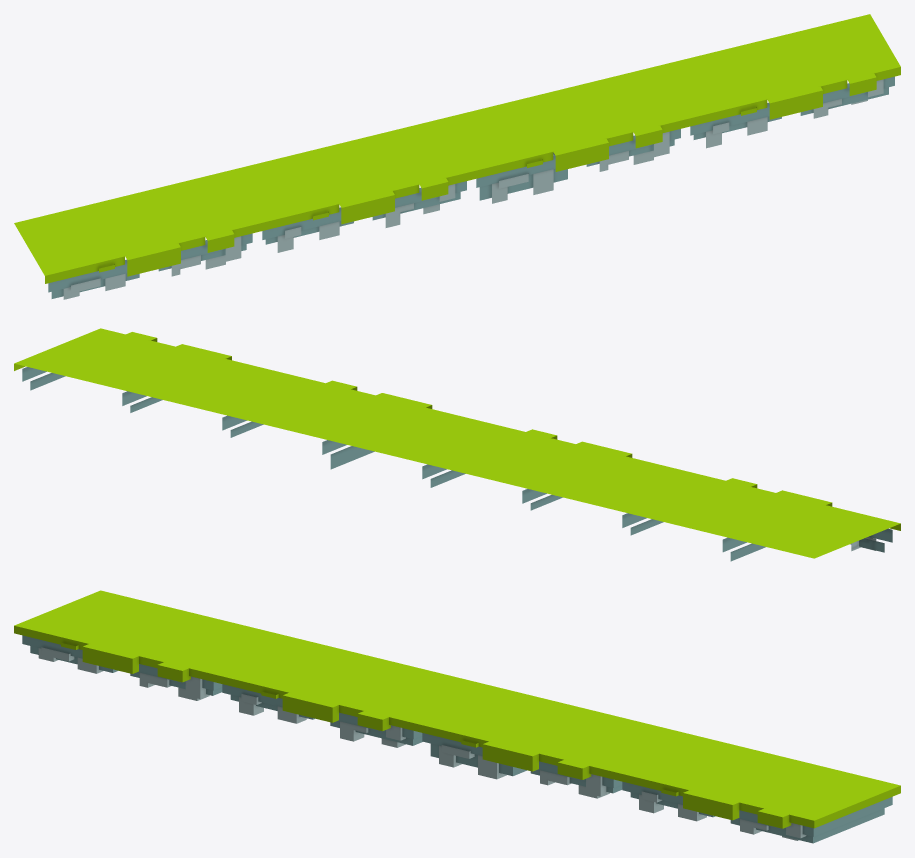
The model's file is Field_Type_01_08.FBX.
The picture shows the model from 3 angles, top to bottom: view 1: azimuth 30°, elevation 25°; view 2: azimuth 150°, elevation 25°; view 3: azimuth 330°, elevation 25°; orthographic projection. The views are drawn at different scales.
Parts seen in each view (by area): view 1: Field_Type_01_08; view 2: Field_Type_01_08; view 3: Field_Type_01_08.
Part boxes in pixels (x1,y1,x2,y2): Field_Type_01_08: (14,14,900,299); Field_Type_01_08: (14,328,900,561); Field_Type_01_08: (14,590,900,843).
Bounding box in the file's own units: 179 × 8.17 × 23.27.
